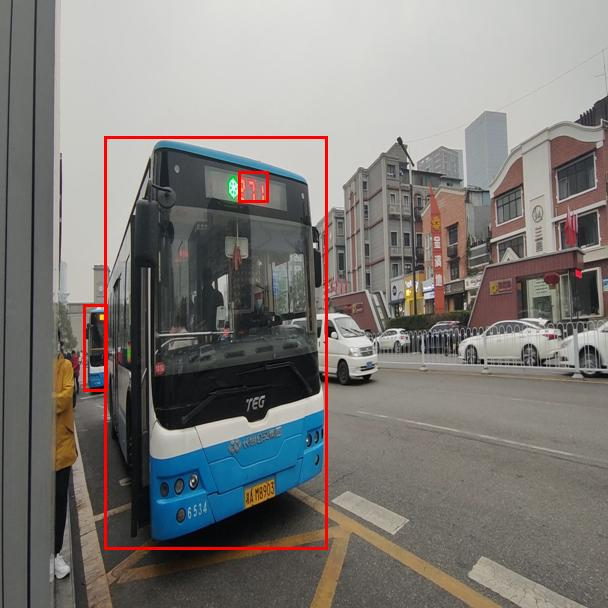bus: (104, 136, 327, 549), (83, 304, 107, 391)
screen: (238, 171, 268, 202)
